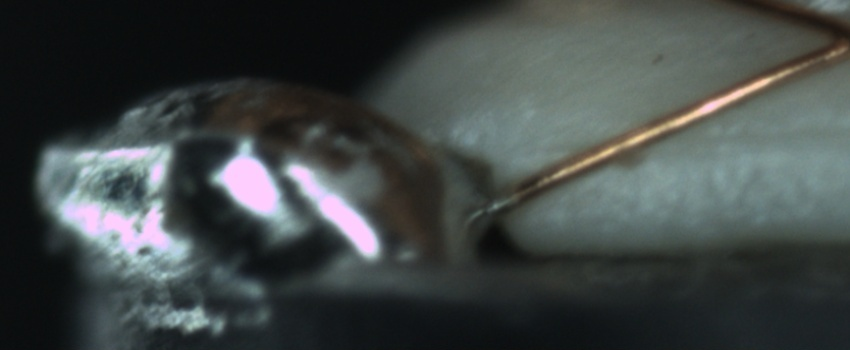CL: (800, 4, 850, 68)
DL: (649, 109, 850, 173)
TS: (488, 189, 518, 216)
